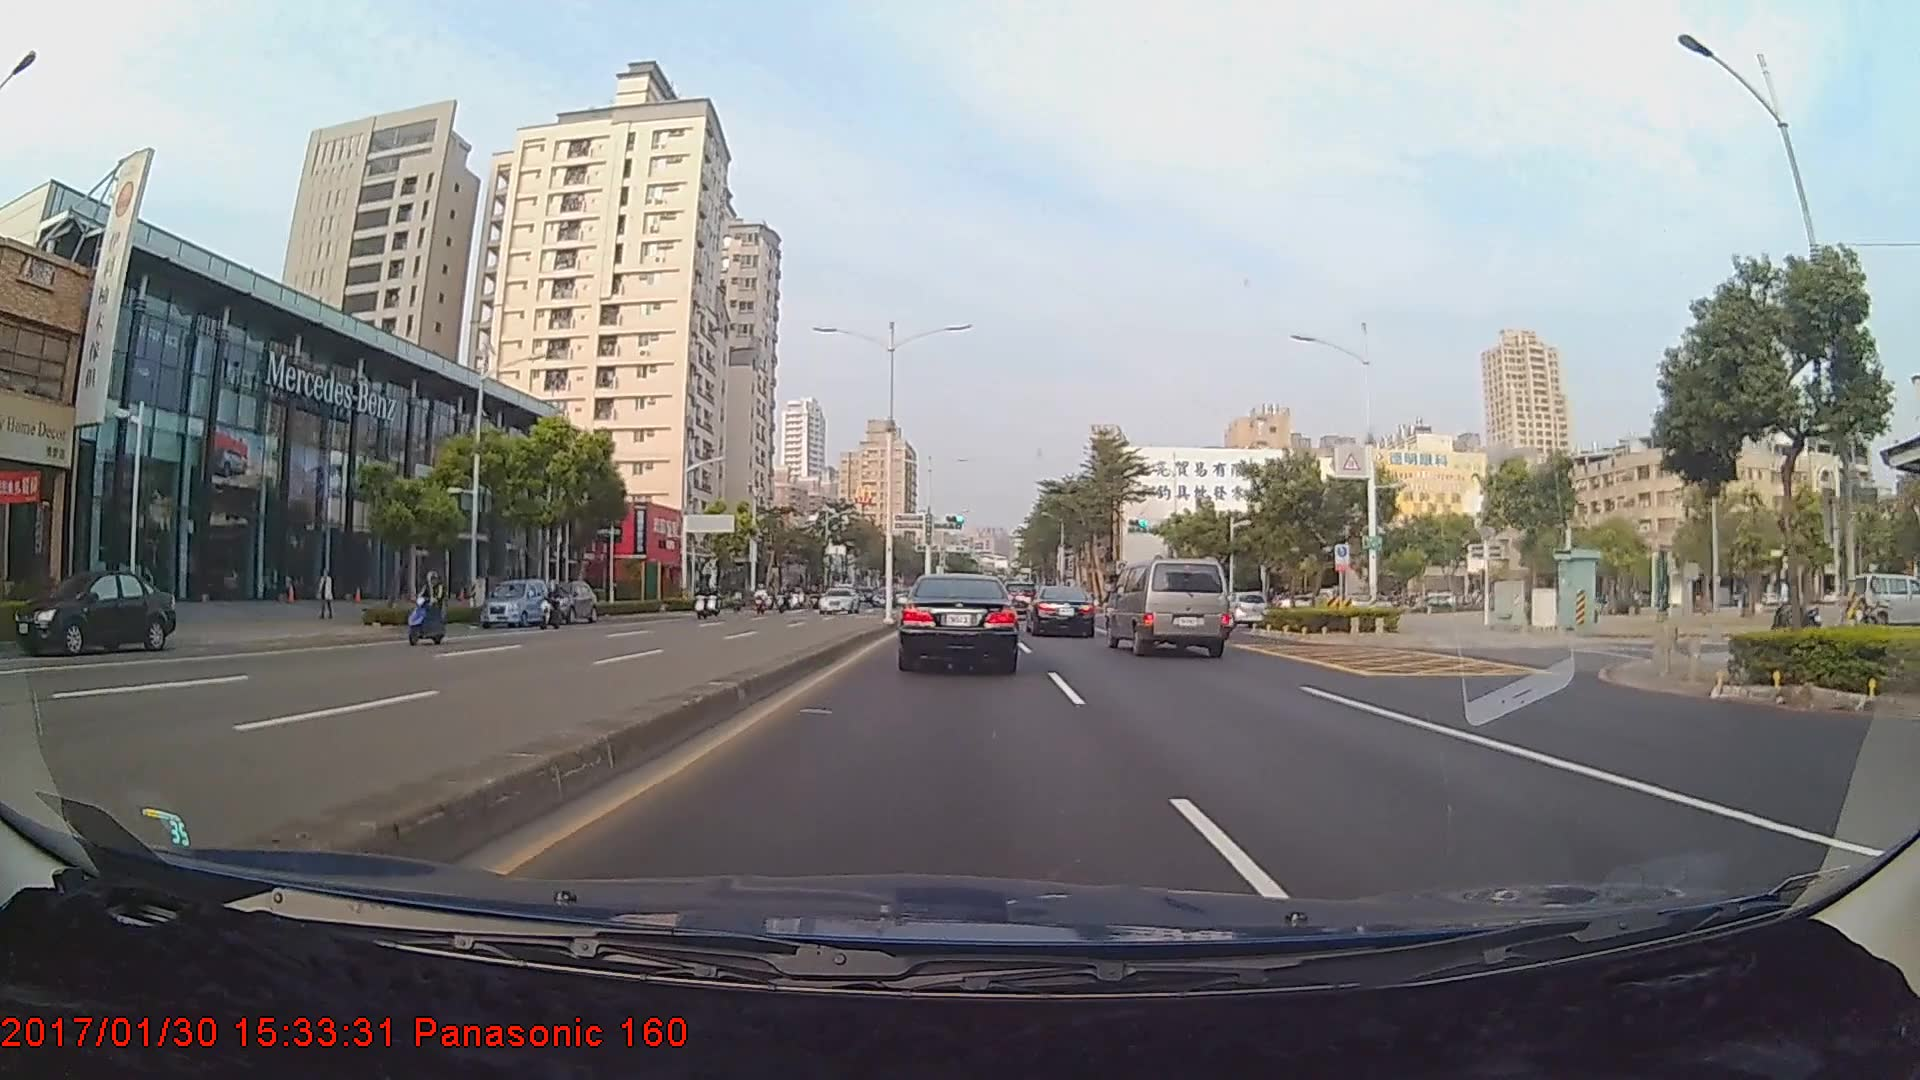pedestrian: (314, 567, 336, 625)
rider: (403, 565, 452, 652), (535, 582, 571, 636)
vehicle: (10, 570, 177, 656), (900, 570, 1017, 673), (1107, 556, 1227, 657), (1027, 584, 1096, 638), (480, 577, 550, 626), (535, 578, 594, 625), (1213, 589, 1269, 624), (815, 585, 857, 613)
